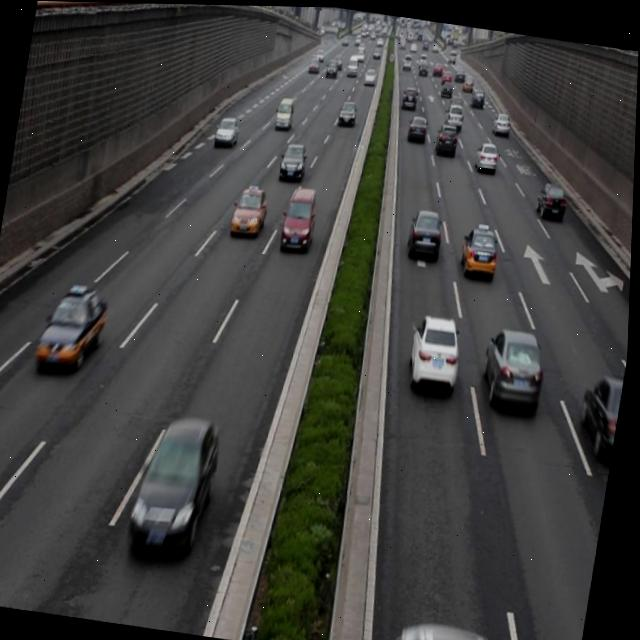car: (127, 409, 226, 559), (35, 282, 110, 376), (480, 322, 550, 409), (405, 307, 468, 391), (577, 369, 627, 456), (459, 220, 501, 278), (406, 205, 447, 261), (230, 181, 270, 238), (534, 176, 570, 220), (277, 137, 309, 181), (434, 118, 460, 156), (473, 137, 501, 171), (214, 112, 241, 147)
truck: (280, 182, 321, 251)
